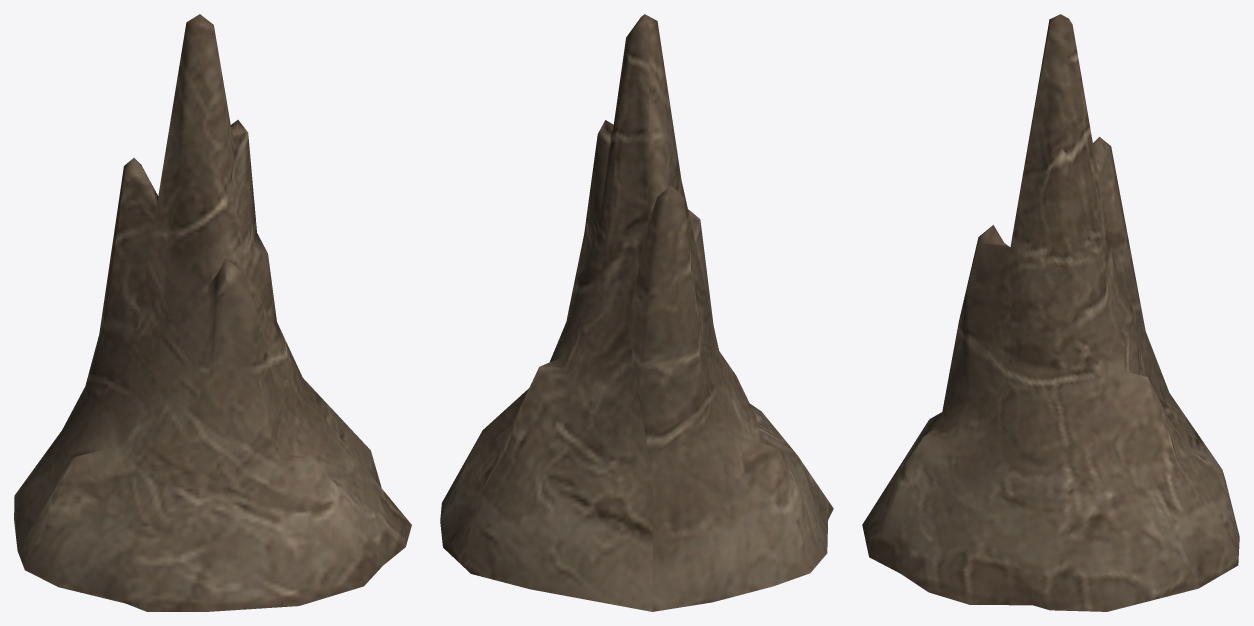
The model's file is environment_stone_seahaidi_002_a.FBX.
3 renders of one model, left to right at view 1: azimuth 30°, elevation 25°; view 2: azimuth 150°, elevation 25°; view 3: azimuth 270°, elevation 25°, orthographic.
Visible parts, largest first — view 1: environment_stone_seahaidi_002_a; view 2: environment_stone_seahaidi_002_a; view 3: environment_stone_seahaidi_002_a.
Boxes of the visible parts, <box> form: environment_stone_seahaidi_002_a: <box>14,14,411,611</box>; environment_stone_seahaidi_002_a: <box>440,14,833,611</box>; environment_stone_seahaidi_002_a: <box>862,14,1239,611</box>.
Bounding box in the file's own units: 182 × 257 × 172.
1 material, 1 textured.
